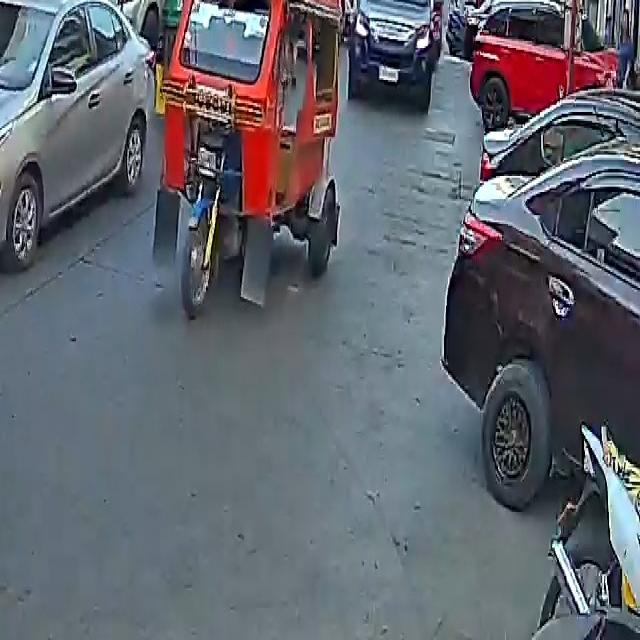car: (444, 84, 640, 526), (0, 0, 159, 270), (469, 0, 624, 130), (343, 0, 445, 92)
